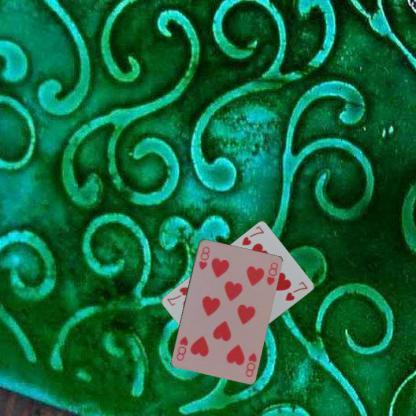7h: (239, 224, 265, 247)
8h: (242, 349, 258, 378), (196, 244, 211, 271)
